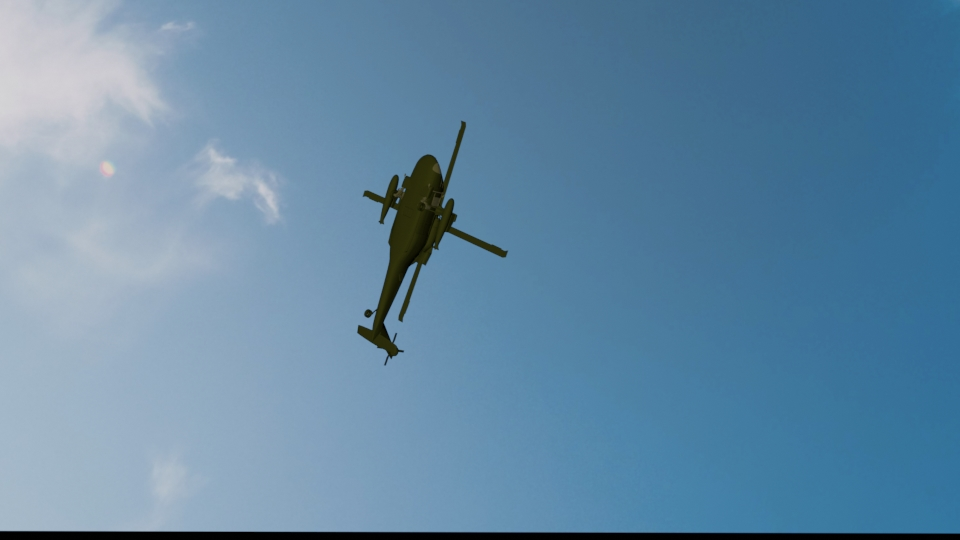heli: (352, 118, 508, 358)
